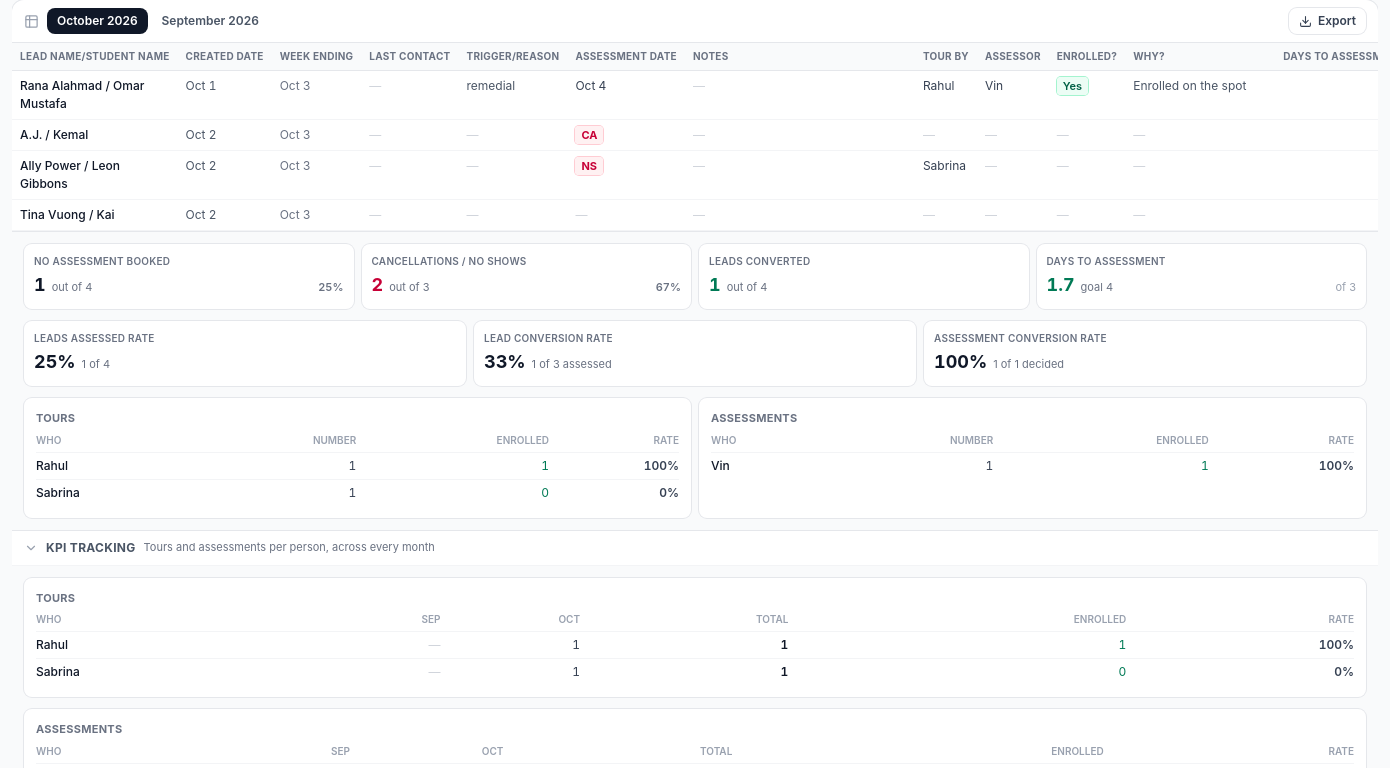
Test: one month at a time › switches when a tab is clicked
Click the button "September 2026". click: (210, 21)
box: 152,8 -> 269,34
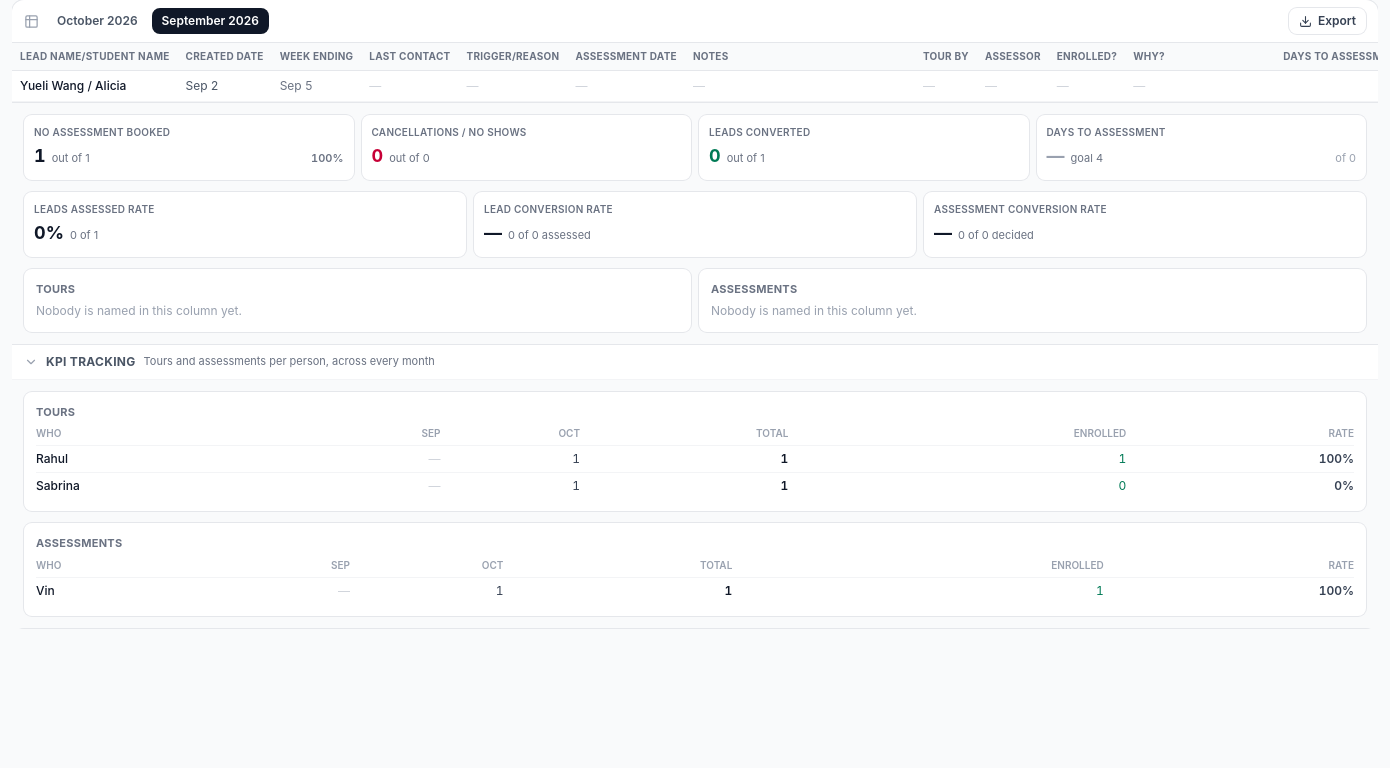
Expected: the text "Yueli Wang / Alicia" is shown, 12,70 -> 178,102
Expected: the text "Rana Alahmad / Omar Mustafa" is gone
